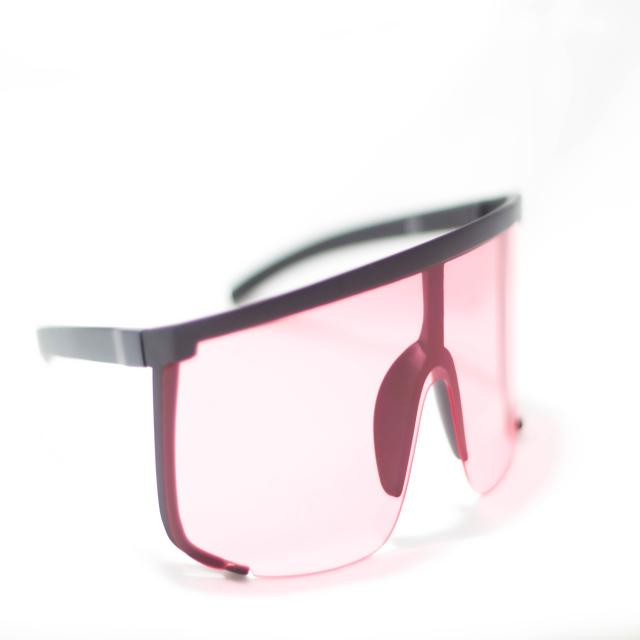Goggles: (17, 177, 565, 587)
